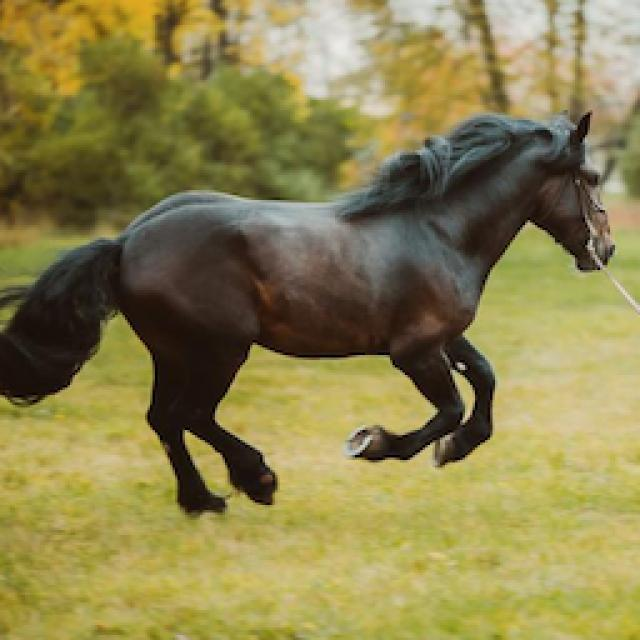Horse: (0, 102, 632, 519)
